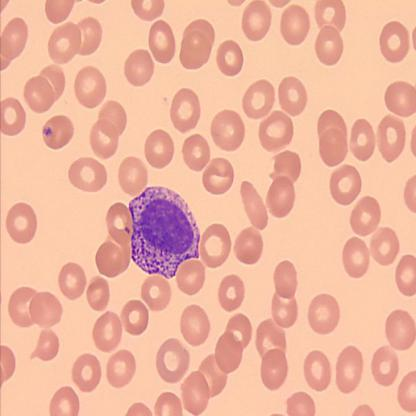Myelocyte: (129, 180, 201, 279)
